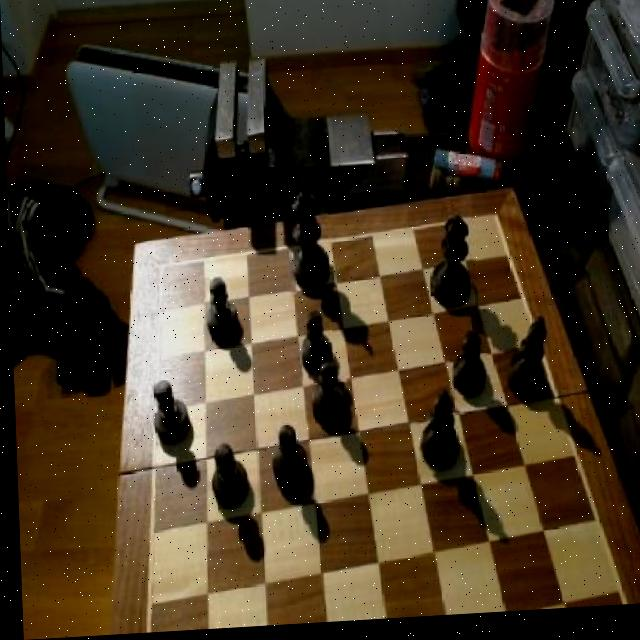bishop: (500, 320, 551, 410), (412, 391, 461, 481)
black-bishop: (281, 182, 331, 298)
black-knight: (147, 380, 189, 454), (206, 443, 247, 516), (446, 337, 488, 406), (199, 280, 240, 347), (306, 360, 345, 430), (293, 311, 331, 381), (267, 427, 305, 496)
black-pawn: (426, 219, 475, 318)
